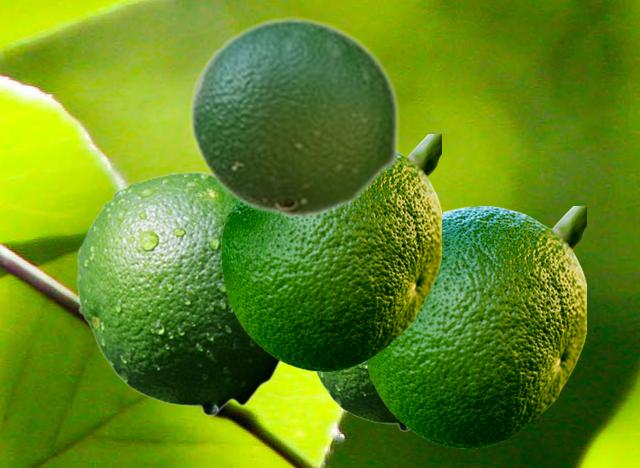dalandan: (364, 206, 585, 447), (221, 134, 440, 370), (76, 170, 280, 416), (188, 16, 400, 219), (315, 364, 409, 431)
